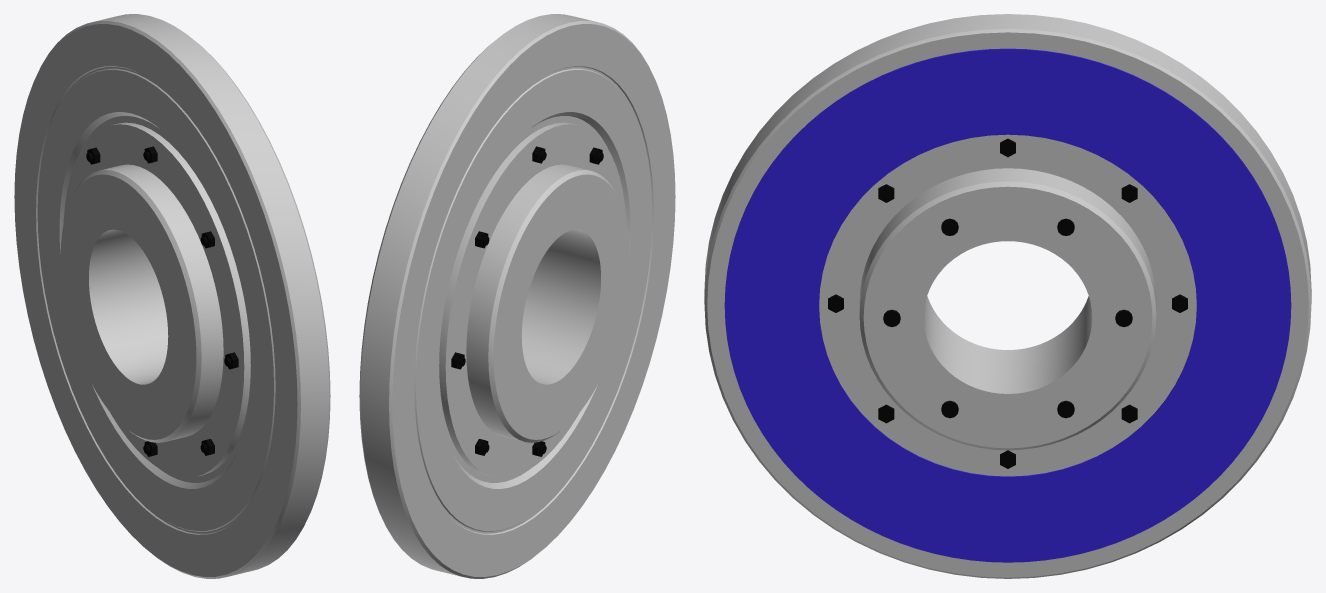
Rendered from brake_disc_overheated_v2.obj.
3 renders of one model, left to right at view 1: azimuth 30°, elevation 25°; view 2: azimuth 150°, elevation 25°; view 3: azimuth 270°, elevation 25°, orthographic. The views are drawn at different scales.
Parts seen in each view (by area): view 1: brake_disc_overheated_v2; view 2: brake_disc_overheated_v2; view 3: brake_disc_overheated_v2.
Part boxes in pixels (x1,y1,x2,y2): brake_disc_overheated_v2: [14, 14, 330, 578]; brake_disc_overheated_v2: [359, 14, 675, 578]; brake_disc_overheated_v2: [704, 14, 1311, 578].
Bounding box in the file's own units: 0.16 × 0.9 × 0.9.
